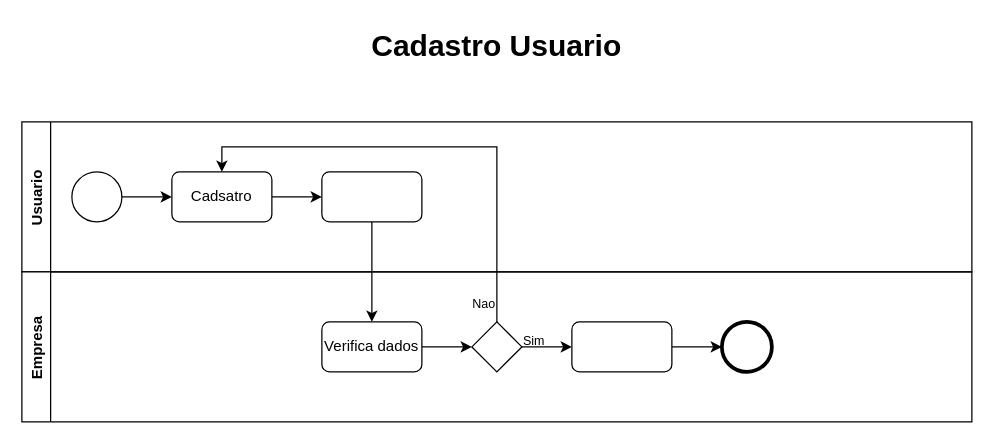
This 994x444 diagram has some shape labels left out. Here are the shapes that lost their labels. From the top down, the centre of each, then its label:
At (371,196): "Inserir dados do usuario".
At (621,346): "Cadastra Usuario".
